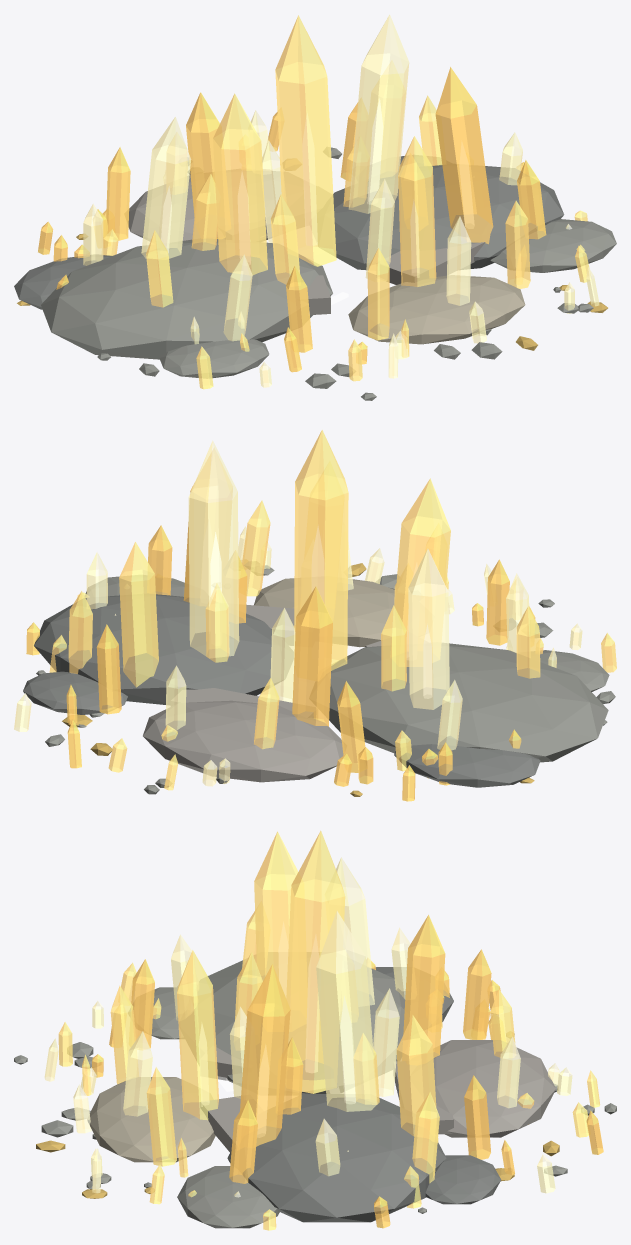
Rendered from worldforge_mineral_dense_crystal_cluster_v0.1.glb.
3 renders of one model, top to bottom at view 1: azimuth 30°, elevation 25°; view 2: azimuth 150°, elevation 25°; view 3: azimuth 270°, elevation 25°, orthographic. The views are drawn at different scales.
Visible parts, largest first — view 1: host_0, host_1, hero_0, host_3, hero_1, hero_2, hero_3, host_2, hero_5, hero_4, host_5, host_6 (+31 smaller); view 2: host_0, host_1, host_2, hero_1, hero_0, hero_2, hero_4, host_3, hero_6, hero_7, host_4, hero_3 (+27 smaller); view 3: host_1, hero_0, host_0, host_2, hero_1, host_3, hero_3, hero_5, hero_2, host_5, hero_6, hero_7 (+32 smaller).
Part boxes in pixels (x1,y1,x2,y2): host_0: [41, 239, 332, 359]; host_1: [317, 165, 564, 270]; hero_0: [275, 15, 336, 266]; host_3: [348, 275, 525, 344]; hero_1: [348, 14, 409, 213]; hero_2: [213, 93, 267, 275]; hero_3: [435, 67, 493, 243]; host_2: [128, 169, 303, 241]; hero_5: [398, 136, 436, 286]; hero_4: [141, 117, 191, 258]; host_5: [490, 219, 616, 272]; host_6: [159, 339, 269, 378]; host_0: [329, 643, 608, 762]; host_1: [34, 594, 293, 704]; host_2: [143, 700, 343, 782]; hero_1: [188, 440, 239, 657]; hero_0: [294, 430, 348, 670]; hero_2: [394, 478, 450, 666]; hero_4: [408, 548, 449, 709]; host_3: [254, 578, 394, 647]; hero_6: [292, 586, 332, 726]; hero_7: [119, 542, 158, 687]; host_4: [394, 744, 540, 787]; hero_3: [183, 448, 232, 602]; host_1: [227, 1094, 446, 1222]; hero_0: [286, 830, 345, 1093]; host_0: [179, 952, 405, 1094]; host_2: [396, 1040, 555, 1137]; hero_1: [316, 911, 377, 1111]; host_3: [87, 1077, 215, 1162]; hero_3: [240, 964, 290, 1146]; hero_5: [177, 950, 218, 1120]; hero_2: [254, 831, 298, 998]; host_5: [177, 1166, 280, 1228]; hero_6: [403, 915, 445, 1057]; hero_7: [396, 1015, 438, 1142].
Size of the model in its own units: 8.19 by 4.11 by 7.8.
